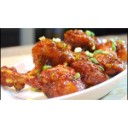chicken_lollipop: (1, 65, 84, 97), (31, 39, 74, 67), (71, 55, 108, 84), (96, 41, 128, 71), (63, 27, 101, 51)
